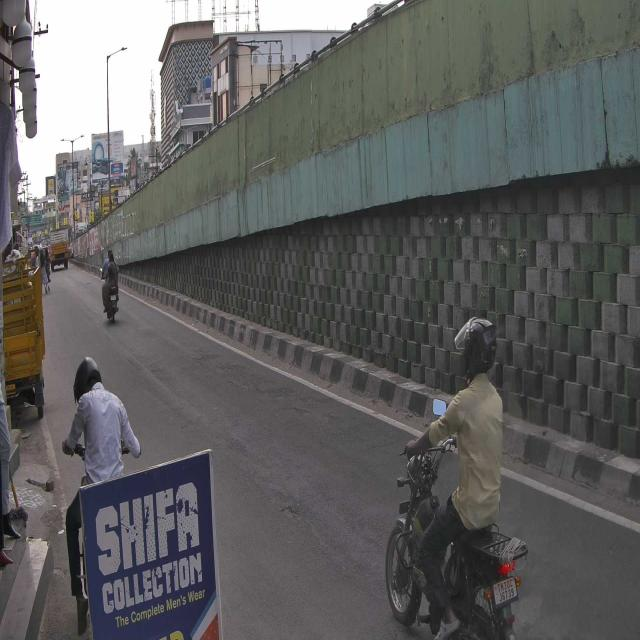single_rider: (385, 315, 530, 640)
